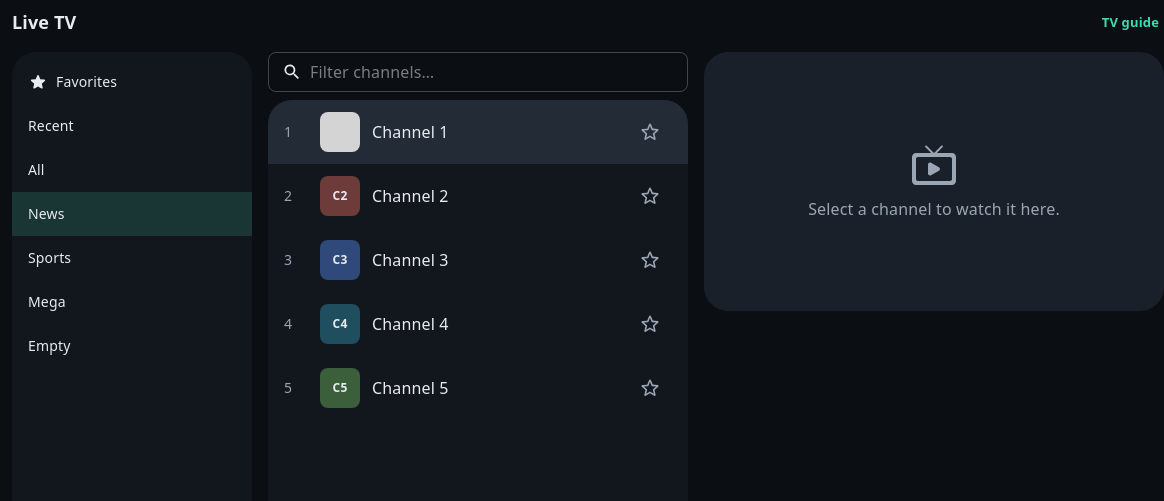
Test: LIV-04 — quick channel filter › a failed index build keeps the list and offers a retry under the field
This screenshot has width=1164, height=501.
Type "channel 4" into the search field labelled "Filter channels" at (499, 72), box [310, 52, 688, 92]
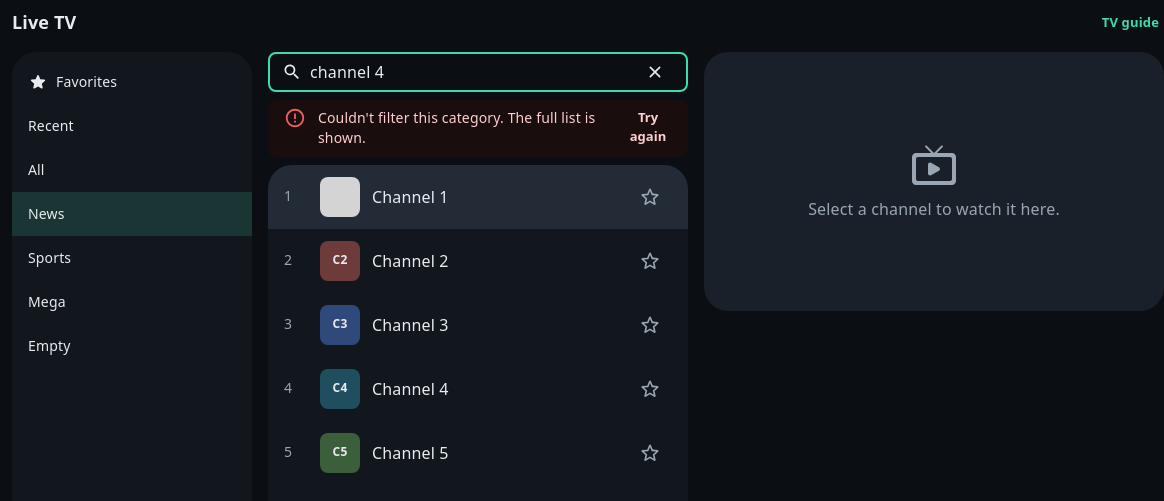
Expected: the number of options is 5, [268, 165, 688, 229]; [268, 229, 688, 293]; [268, 293, 688, 357]; [268, 357, 688, 421]; [268, 421, 688, 485]
Expected: the message with test id "filter-error" shows "Couldn't filter this category. The full list is shown.", [318, 108, 595, 147]
Click the button "Try again" at (648, 127), box [616, 104, 680, 150]
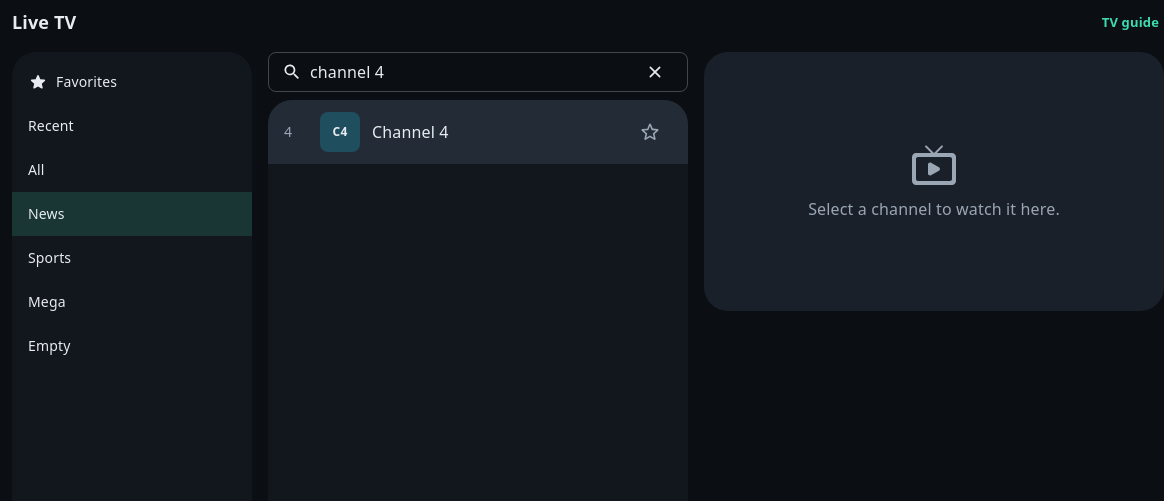
Expected: the message with test id "filter-error" is gone
